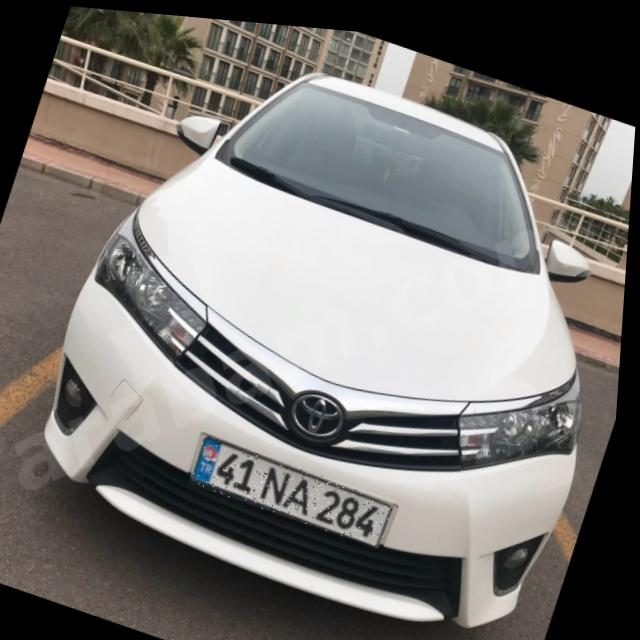license_plate: (192, 429, 403, 542)
